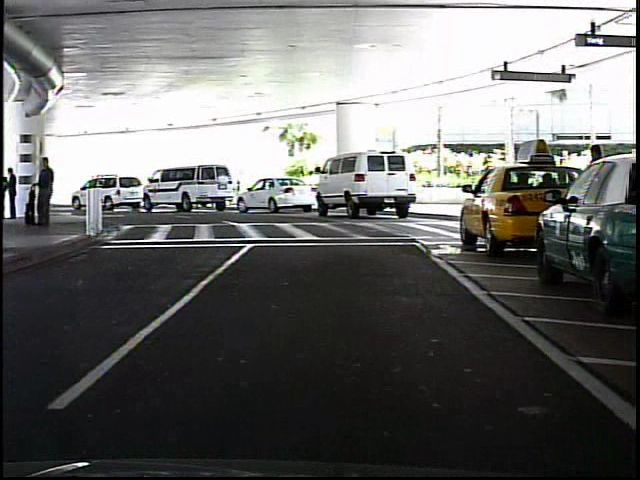person: (583, 143, 611, 245), (38, 154, 58, 229), (4, 161, 25, 224)
